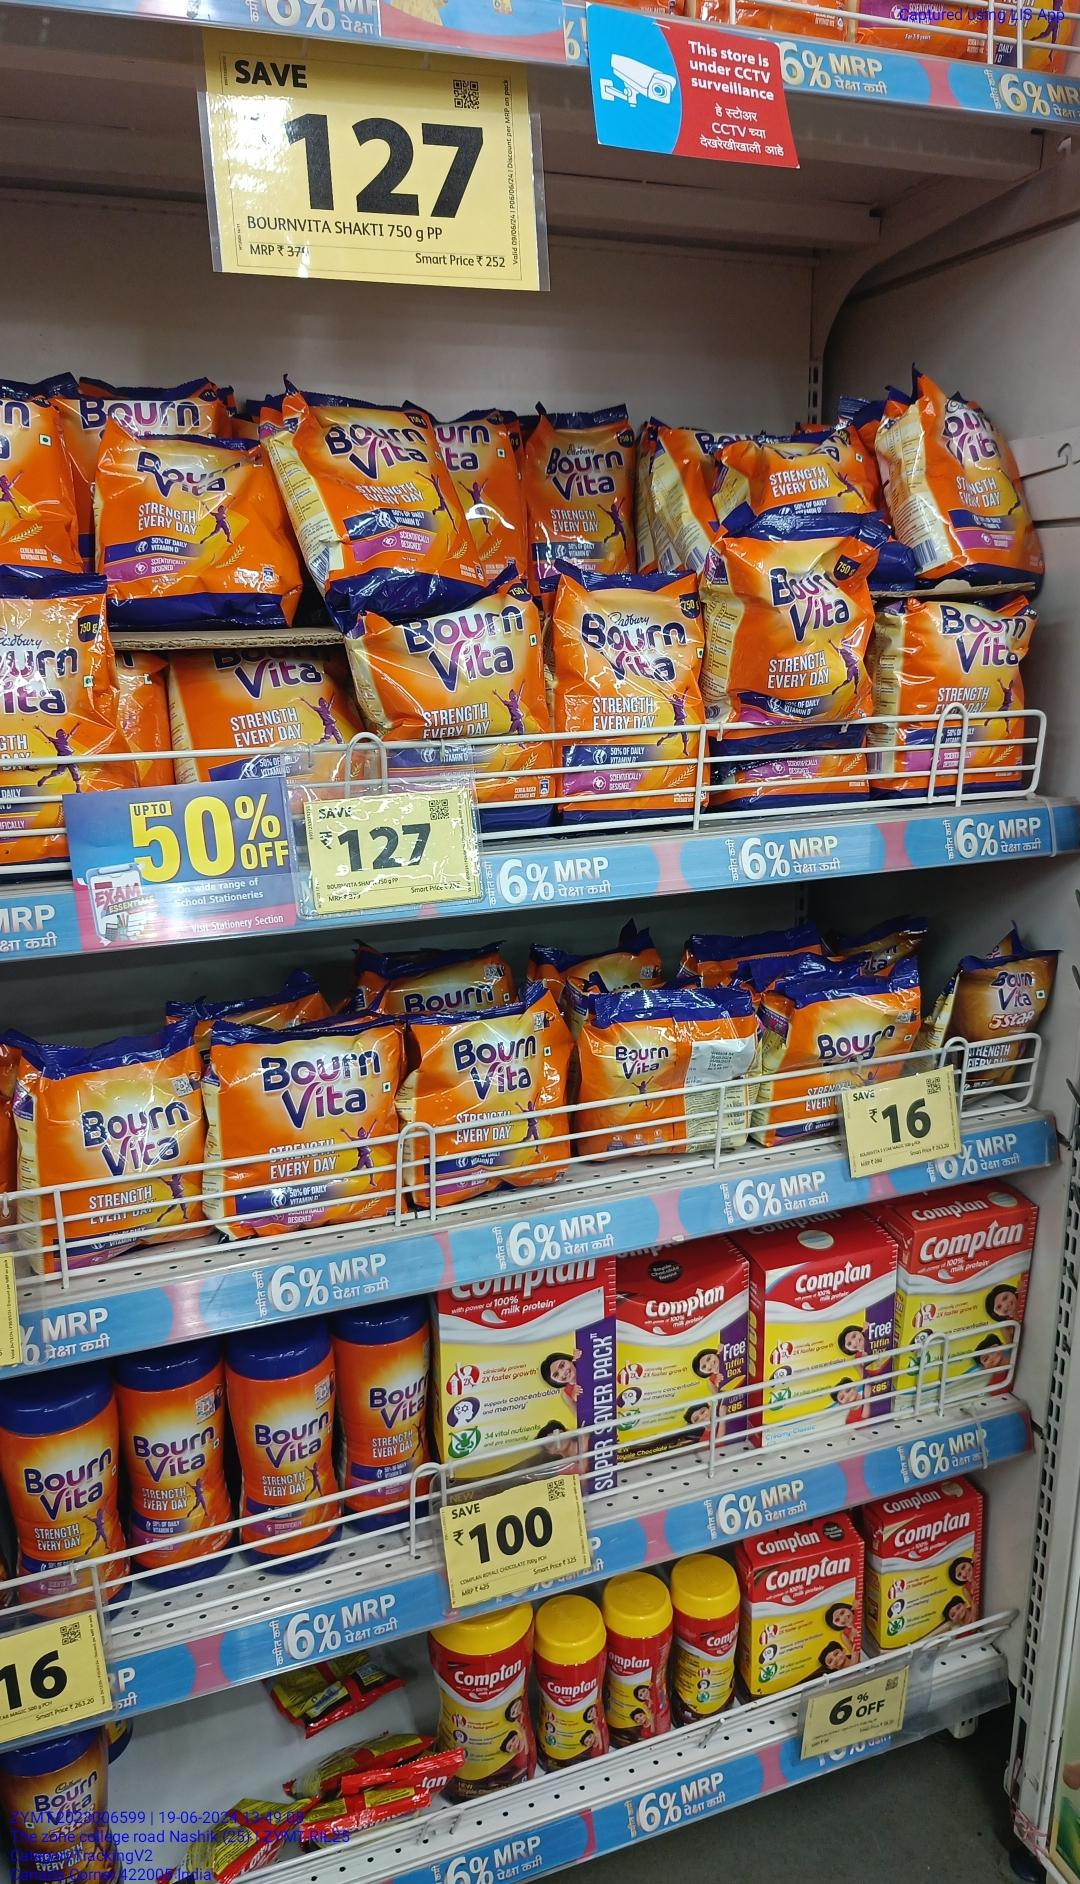BOURN_VITA_500_G_JAR: (343, 1298, 429, 1536)
BOURN_VITA_FIVE_STAR_MAGIC_500_G_POUCH: (960, 963, 1052, 1127)
COMPLAN_CHOCOLATE_1_KG_PACK: (442, 1276, 614, 1511)
COMPLAN_CHOCOLATE_200_GMS_JAR: (538, 1624, 605, 1775), (684, 1581, 741, 1729), (607, 1610, 662, 1752)
COMPLAN_CHOCOLATE_500_GMS_JAR: (437, 1619, 529, 1806)
COMPLAN_CREAMY_CLASSIC_500_G_PACK: (761, 1254, 895, 1443), (909, 1224, 1027, 1414)
COMPLAN_KESAR_BADAM_200_GMS_PACK: (882, 1513, 982, 1664)
